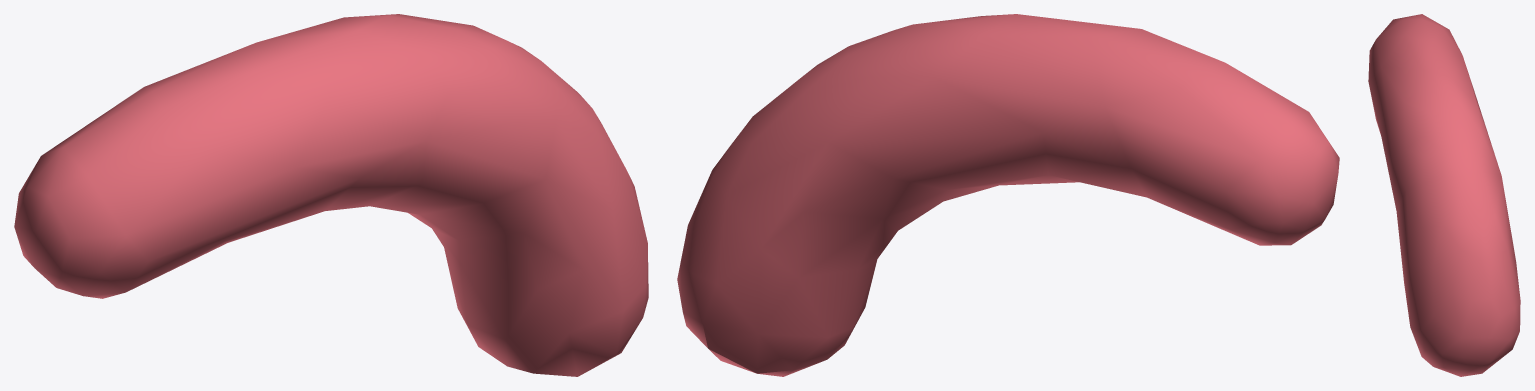
Rendered from fma50639_fj5178.glb.
3 views of the same model, side by side, from view 1: azimuth 30°, elevation 25°; view 2: azimuth 150°, elevation 25°; view 3: azimuth 270°, elevation 25° (orthographic). The views are drawn at different scales.
Parts seen in each view (by area): view 1: FMA50639_FJ5178; view 2: FMA50639_FJ5178; view 3: FMA50639_FJ5178.
Part boxes in pixels (x1,y1,x2,y2): FMA50639_FJ5178: [14, 14, 648, 376]; FMA50639_FJ5178: [677, 14, 1339, 376]; FMA50639_FJ5178: [1368, 14, 1520, 376].
Size of the model in its own units: 0.00868 by 0.00535 by 0.0031.
